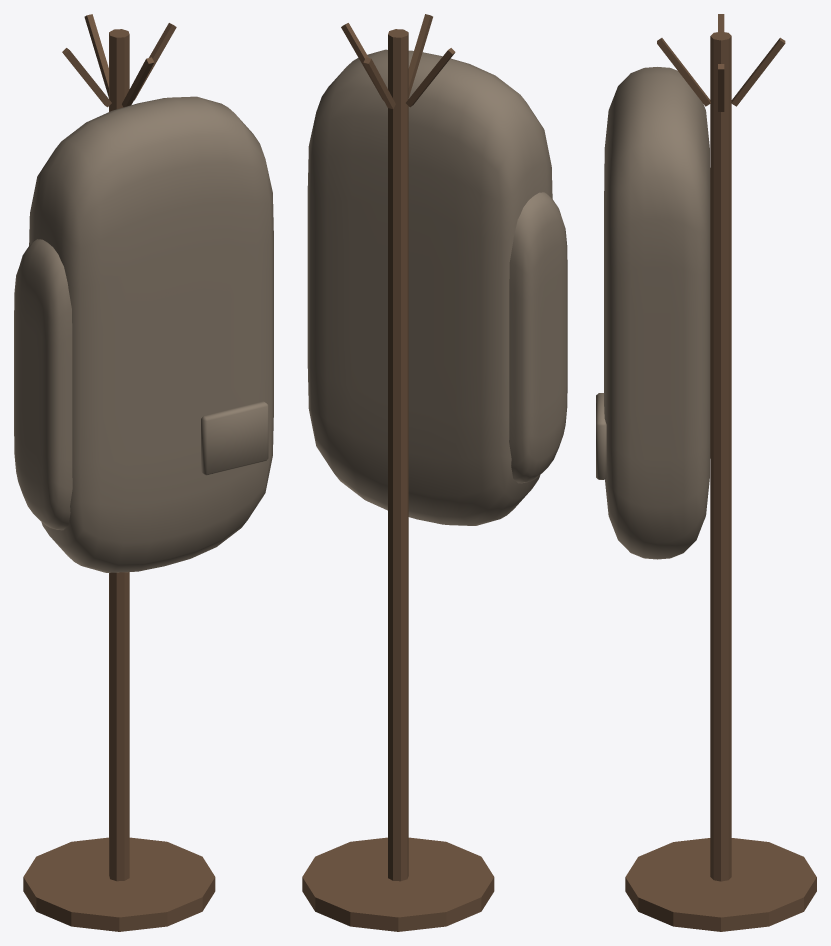
Rendered from coat_rack.fbx.
3 renders of one model, left to right at view 1: azimuth 30°, elevation 25°; view 2: azimuth 150°, elevation 25°; view 3: azimuth 270°, elevation 25°, orthographic.
Visible parts, largest first — view 1: Coat, Rack; view 2: Coat, Rack; view 3: Coat, Rack.
Boxes of the visible parts, bbox=[...] form: Coat: bbox=[14, 96, 273, 572]; Rack: bbox=[23, 14, 215, 931]; Coat: bbox=[307, 49, 567, 525]; Rack: bbox=[302, 14, 494, 931]; Coat: bbox=[596, 67, 710, 559]; Rack: bbox=[625, 14, 816, 931].
Bounding box in the file's own units: 0.485 × 1.77 × 0.415.
